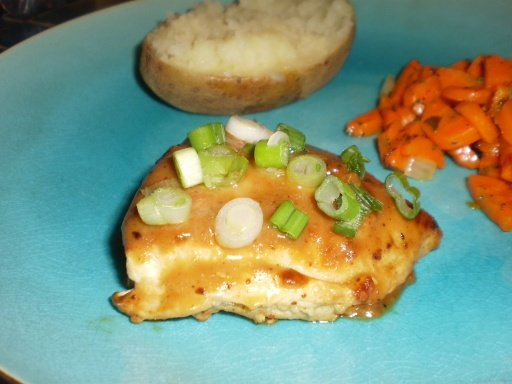background: (89, 0, 409, 195)
